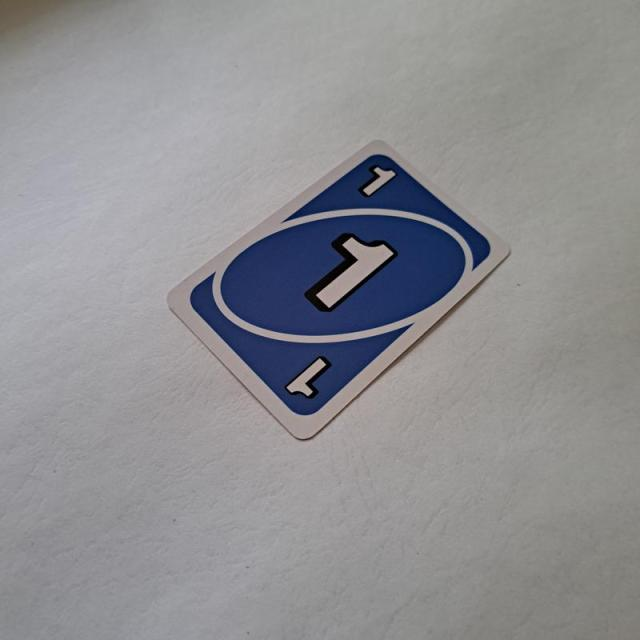Blue_Card: (184, 148, 498, 425)
Number_1: (355, 160, 400, 204)
